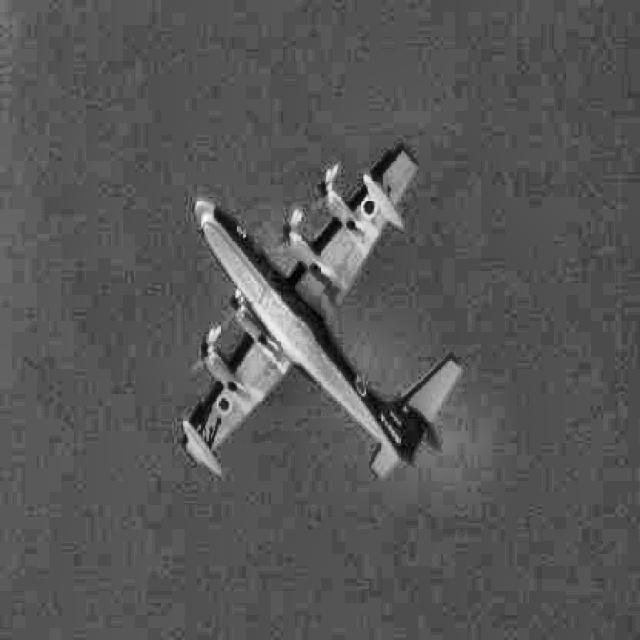US2: (180, 144, 463, 482)
